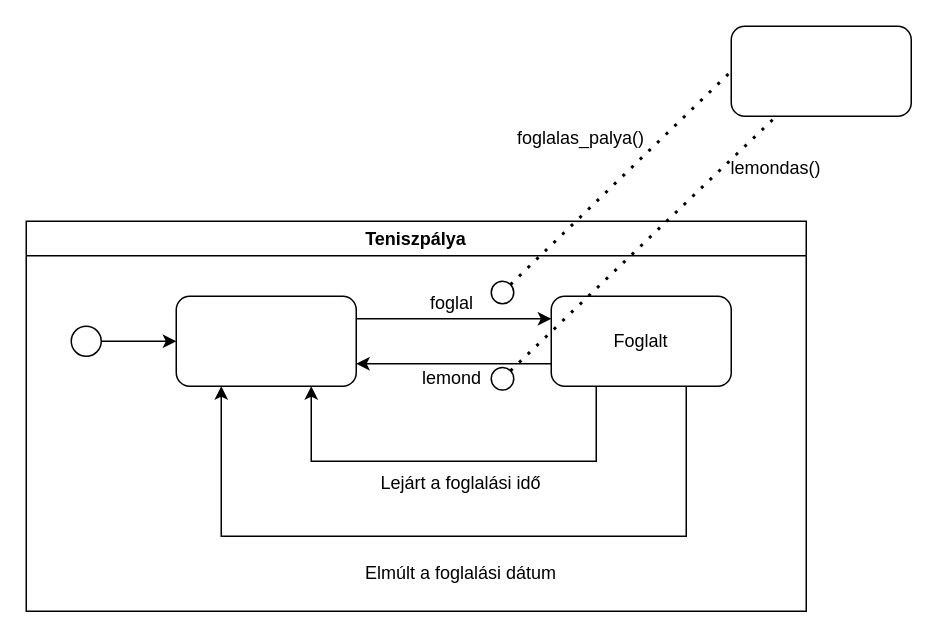
Some shapes in this 938 by 638 pixel diagram are drawn without their labels. The shapes that lost their labels are listed below. From the top down, each one's centre as x and y in pixels, then its label:
At pixel 820 70: "F: Foglalás".
At pixel 265 340: "Szabad".
